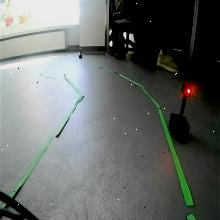red: (180, 83, 194, 99)
